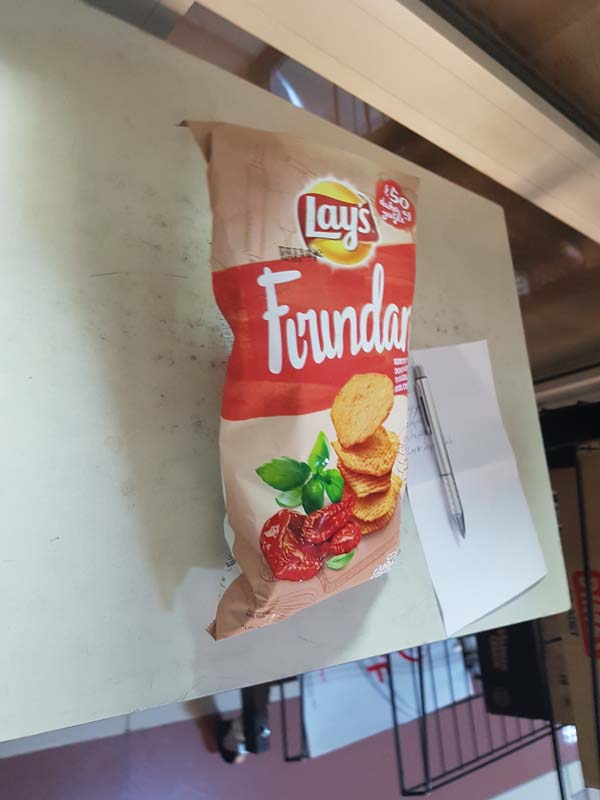laysfirindan: (178, 112, 410, 639)
